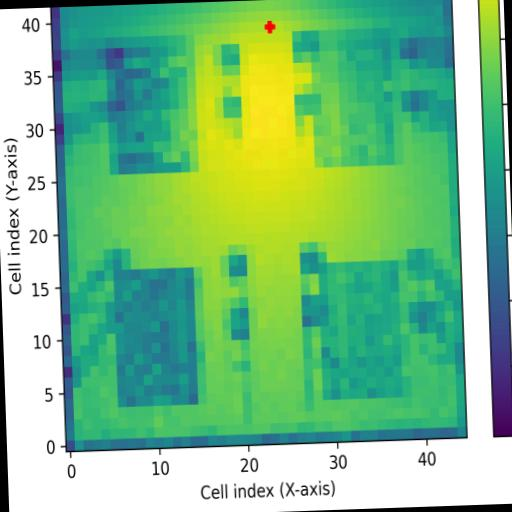Concrete: (310, 29, 404, 168)
Glass: (106, 34, 199, 174)
Metal: (318, 260, 404, 398)
Wood: (112, 266, 198, 408)
